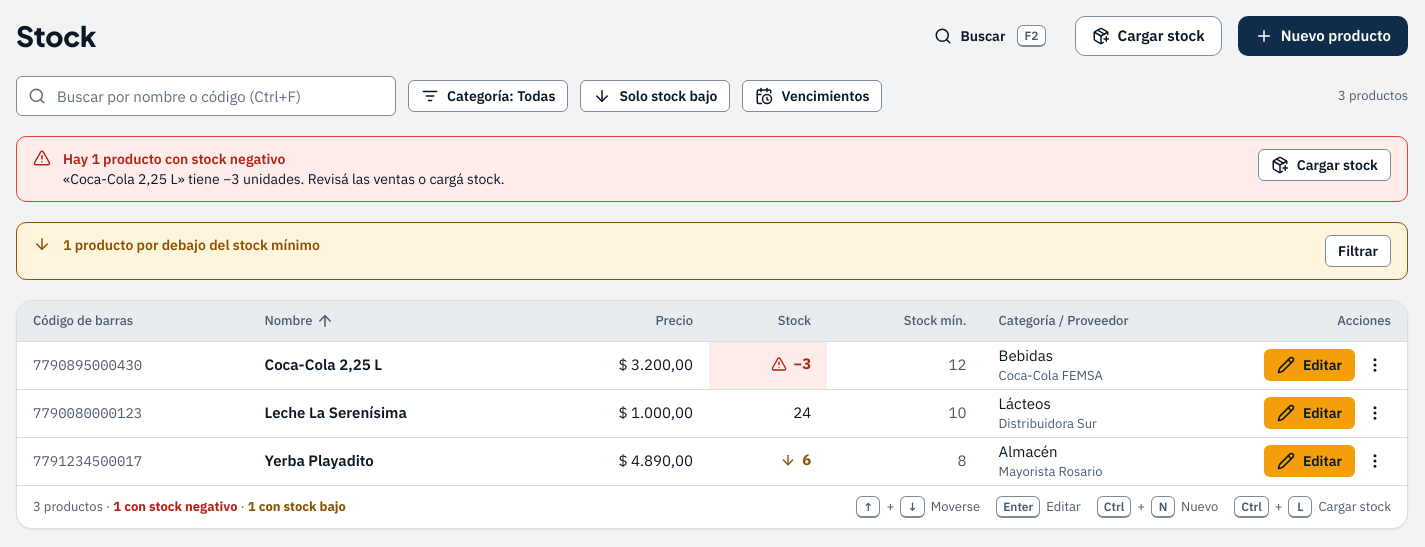
StockProducts — buscador, filtros y orden › sin coincidencias: "No encontramos «xyz»"
This screenshot has width=1425, height=547.
In the field named "Buscar productos": (206, 96) [16, 76, 396, 116], type "xyz"
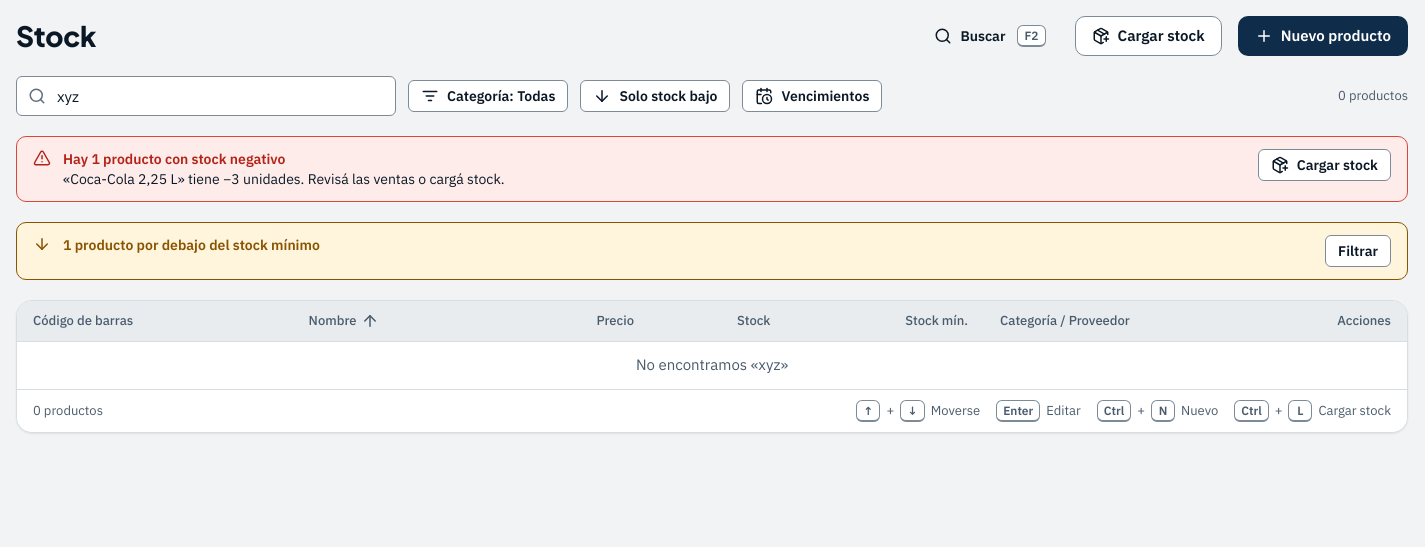
Expected: the text "No encontramos «xyz»" is shown, [17, 341, 1407, 389]
